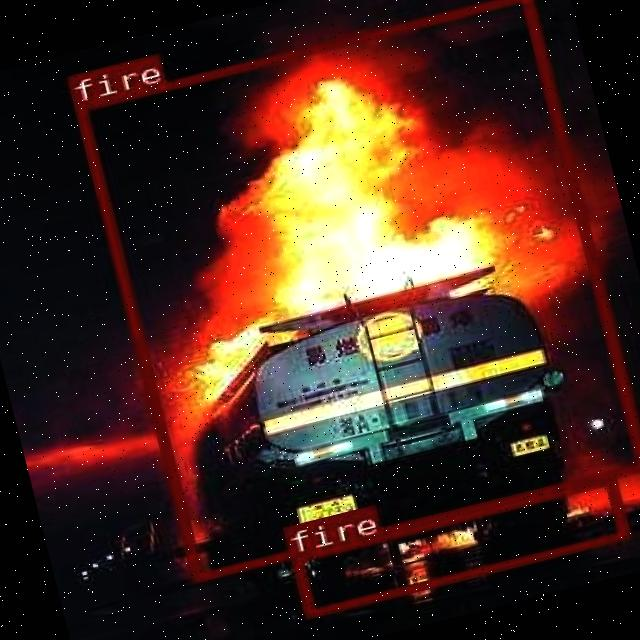fire: (71, 0, 640, 581), (288, 474, 626, 617)
